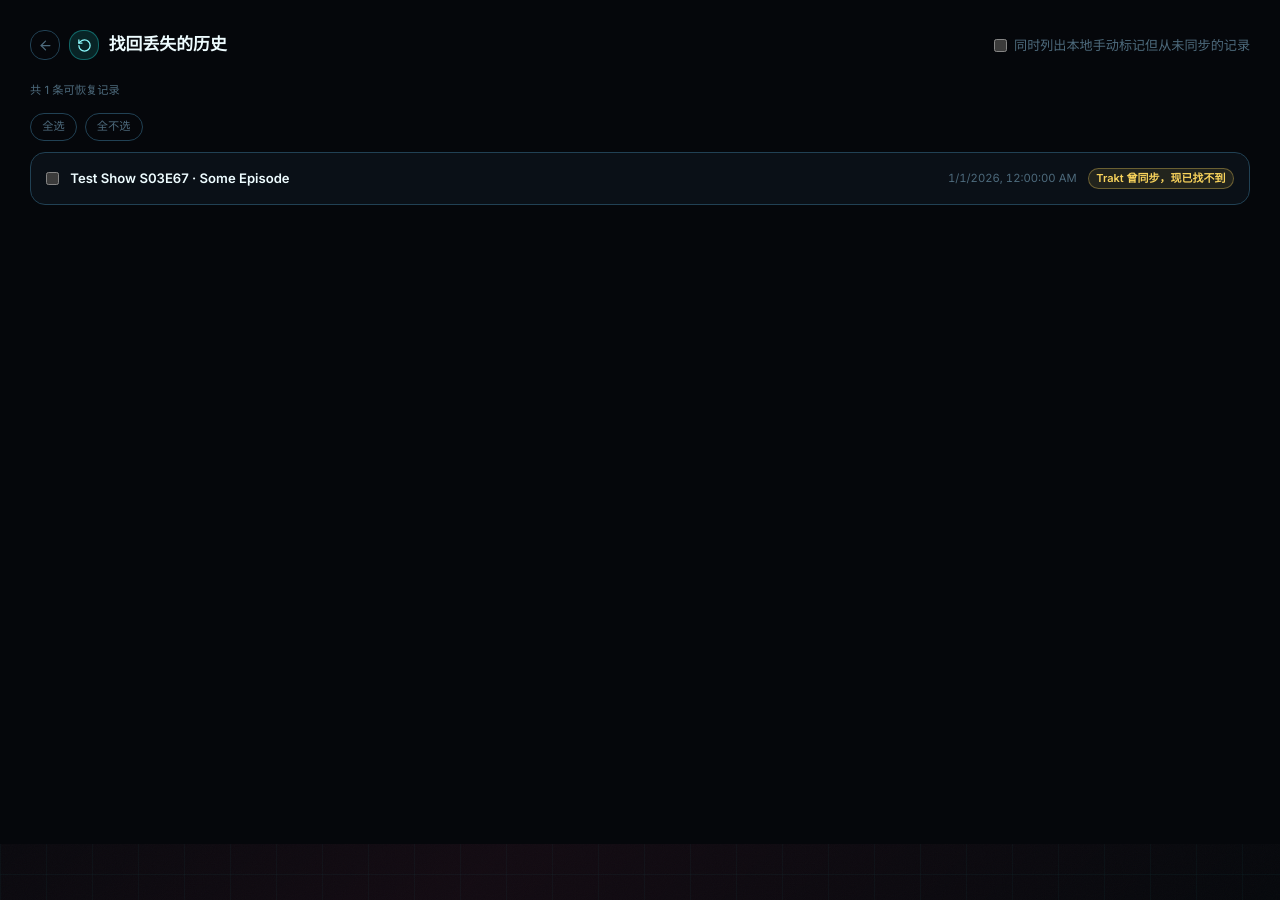
Test: HistoryRestorePage › toggles an individual checkbox and shows the floating restore bar
Click the 2nd checkbox at [52, 179], box [46,172,59,185]
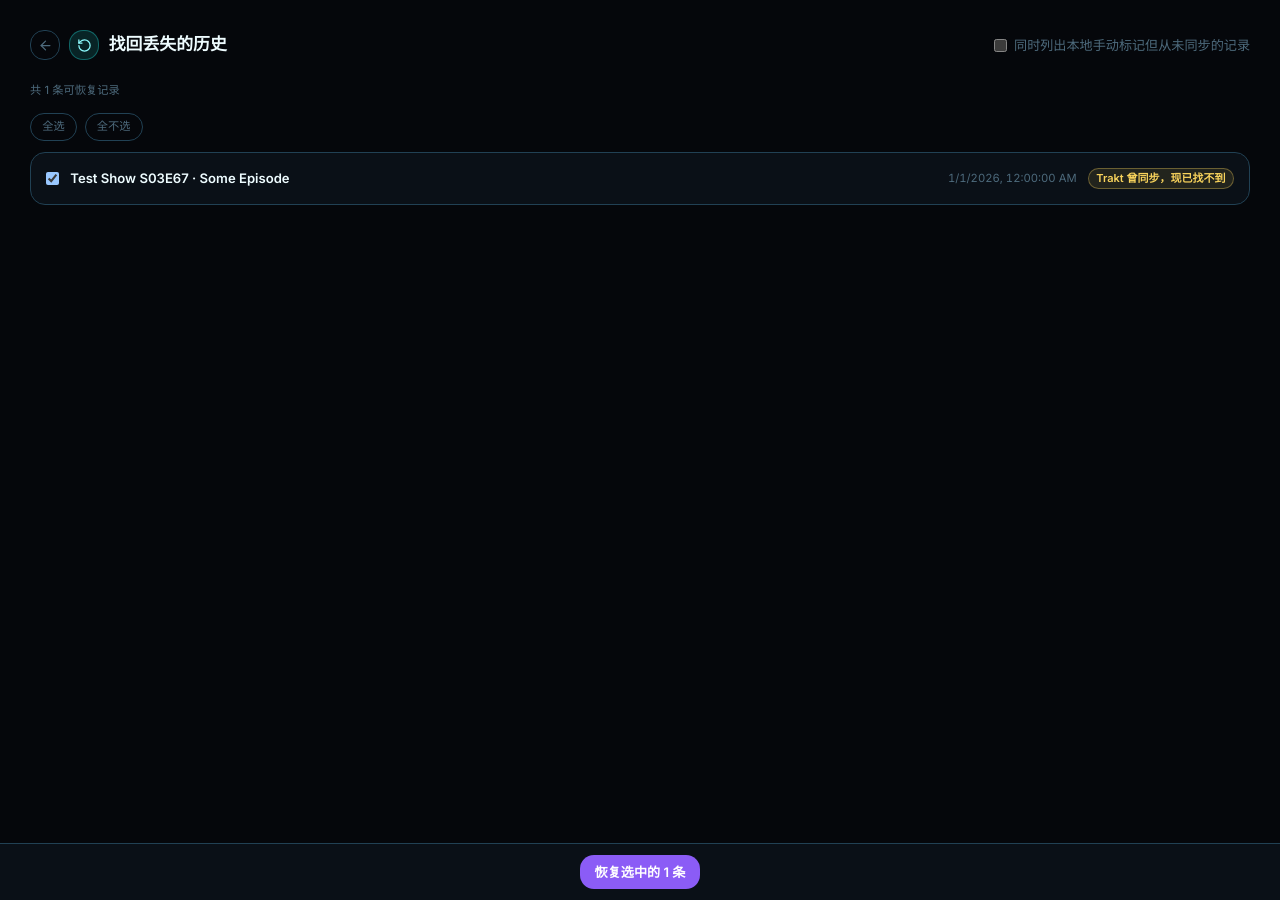
Check: the 2nd checkbox is checked, box [46,172,59,185]
Check: the button "恢复选中的 1 条" is shown, box [580,855,700,889]
